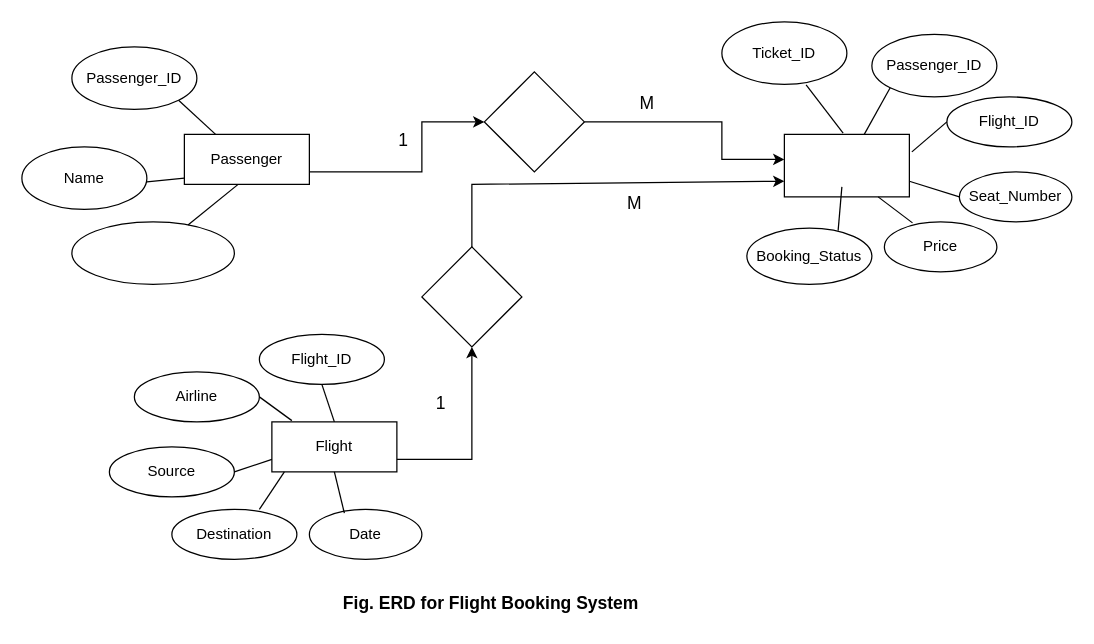
Image size: 1094x644. Some labels were removed from this diagram. Each missing label, with the centre of its shape:
Book: point (533, 121)
Has: point (471, 296)
Passport_Number: point (152, 252)
Ticket: point (846, 165)
